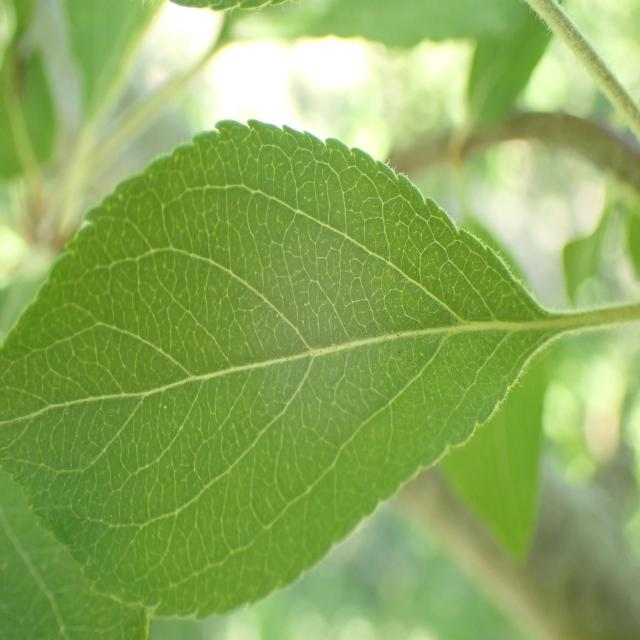healthy: (1, 118, 551, 622), (0, 467, 150, 640)
